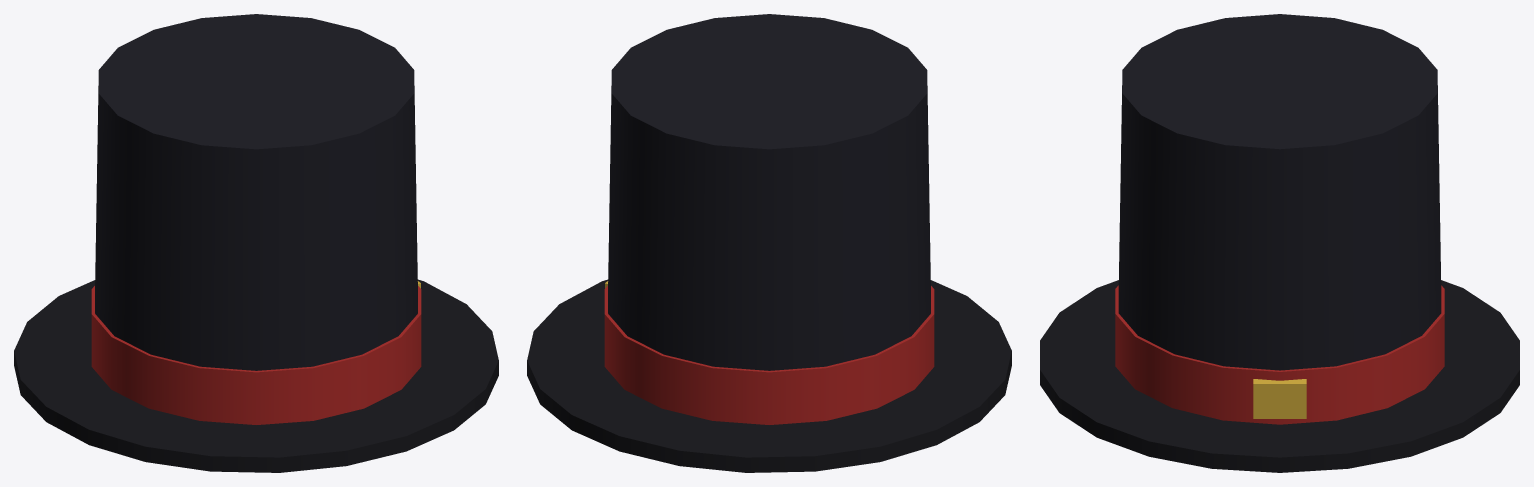
File: hat_top_hat.glb
3 renders of one model, left to right at view 1: azimuth 30°, elevation 25°; view 2: azimuth 150°, elevation 25°; view 3: azimuth 270°, elevation 25°, orthographic.
Parts seen in each view (by area): view 1: Hat; view 2: Hat; view 3: Hat.
Part boxes in pixels (bbox=[...]): Hat: bbox=[14, 14, 498, 472]; Hat: bbox=[527, 14, 1011, 472]; Hat: bbox=[1040, 14, 1519, 472].
Size of the model in its own units: 0.6 by 0.3945 by 0.5939.
